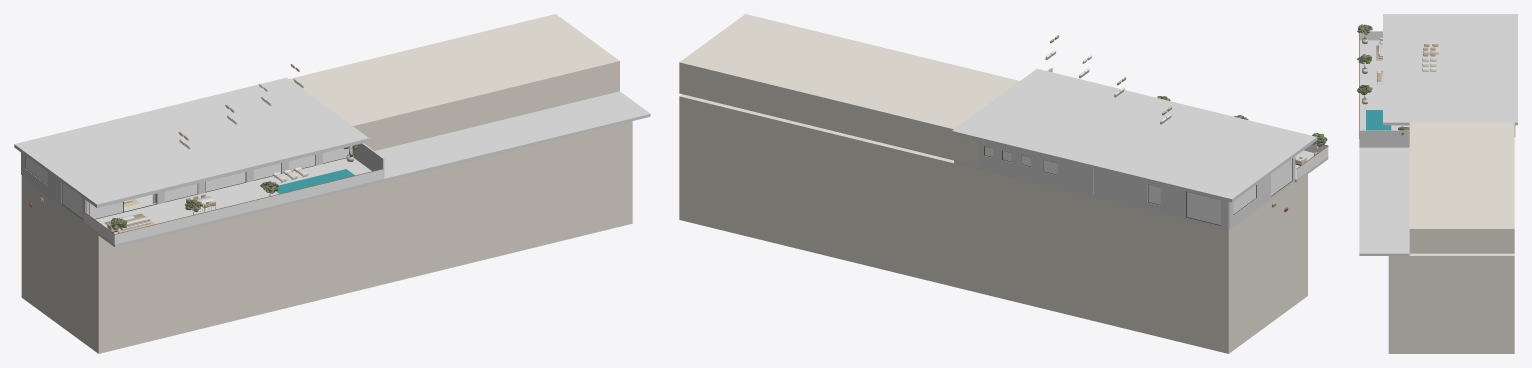
Rendered from penthaus.glb.
3 views of the same model, side by side, from view 1: azimuth 30°, elevation 25°; view 2: azimuth 150°, elevation 25°; view 3: azimuth 270°, elevation 25° (orthographic). The views are drawn at different scales.
Visible parts, largest first — view 1: body, limestone, ceiling, ceiling_c, ceiling_b, glass, plaster, plaster_b, water; view 2: body, ceiling, ceiling_c, ceiling_b, plaster_c, glass, limestone, oak_dark, plaster; view 3: body, limestone, ceiling, ceiling_c, ceiling_b, plaster_b, water, leaf, linen_white, leaf2, glass, linen_sand.
Boxes of the visible parts, x1,y1,x2,y2 form: body: [21, 14, 632, 353]; limestone: [21, 91, 650, 247]; ceiling: [14, 101, 325, 207]; ceiling_c: [68, 77, 318, 154]; ceiling_b: [176, 107, 369, 178]; glass: [26, 148, 383, 244]; plaster: [21, 152, 205, 220]; plaster_b: [246, 143, 384, 182]; water: [276, 169, 354, 193]; body: [679, 14, 1307, 353]; ceiling: [986, 100, 1317, 202]; ceiling_c: [952, 106, 1210, 188]; ceiling_b: [993, 68, 1192, 138]; plaster_c: [979, 141, 1186, 217]; glass: [984, 143, 1328, 225]; limestone: [954, 150, 1328, 230]; oak_dark: [1093, 144, 1318, 206]; plaster: [1187, 156, 1295, 227]; body: [1388, 122, 1514, 353]; limestone: [1359, 40, 1409, 255]; ceiling: [1383, 14, 1517, 122]; ceiling_c: [1464, 35, 1517, 125]; ceiling_b: [1383, 62, 1452, 125]; plaster_b: [1359, 125, 1409, 147]; water: [1366, 110, 1391, 130]; leaf: [1357, 24, 1409, 134]; linen_white: [1422, 50, 1438, 71]; leaf2: [1357, 25, 1408, 135]; glass: [1359, 32, 1382, 40]; linen_sand: [1377, 44, 1438, 81].
Bounding box in the file's own units: 62.74 × 23.11 × 19.19.
